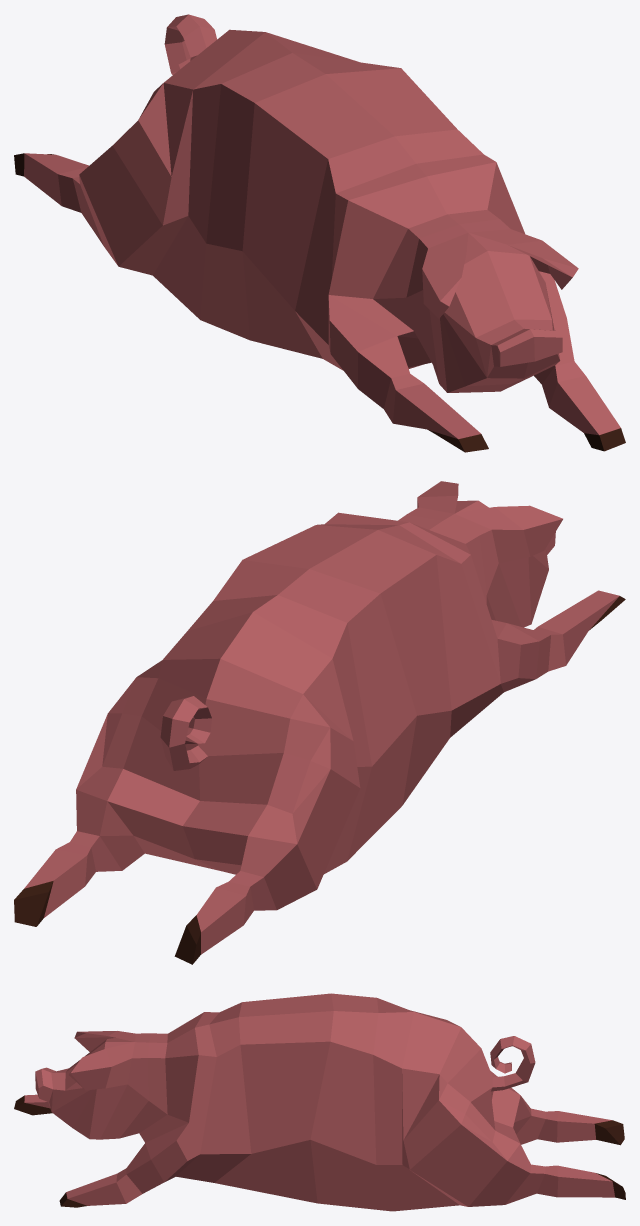
Rendered from Pig_000015.obj.
3 views of the same model, one above another, from view 1: azimuth 30°, elevation 25°; view 2: azimuth 150°, elevation 25°; view 3: azimuth 270°, elevation 25° (orthographic). The views are drawn at different scales.
Parts seen in each view (by area): view 1: Pig_Cylinder; view 2: Pig_Cylinder; view 3: Pig_Cylinder.
Part boxes in pixels (x1,y1,x2,y2): Pig_Cylinder: (14, 14, 625, 452); Pig_Cylinder: (14, 481, 625, 964); Pig_Cylinder: (14, 993, 625, 1211).
Size of the model in its own units: 3.31 by 3.54 by 11.07.
